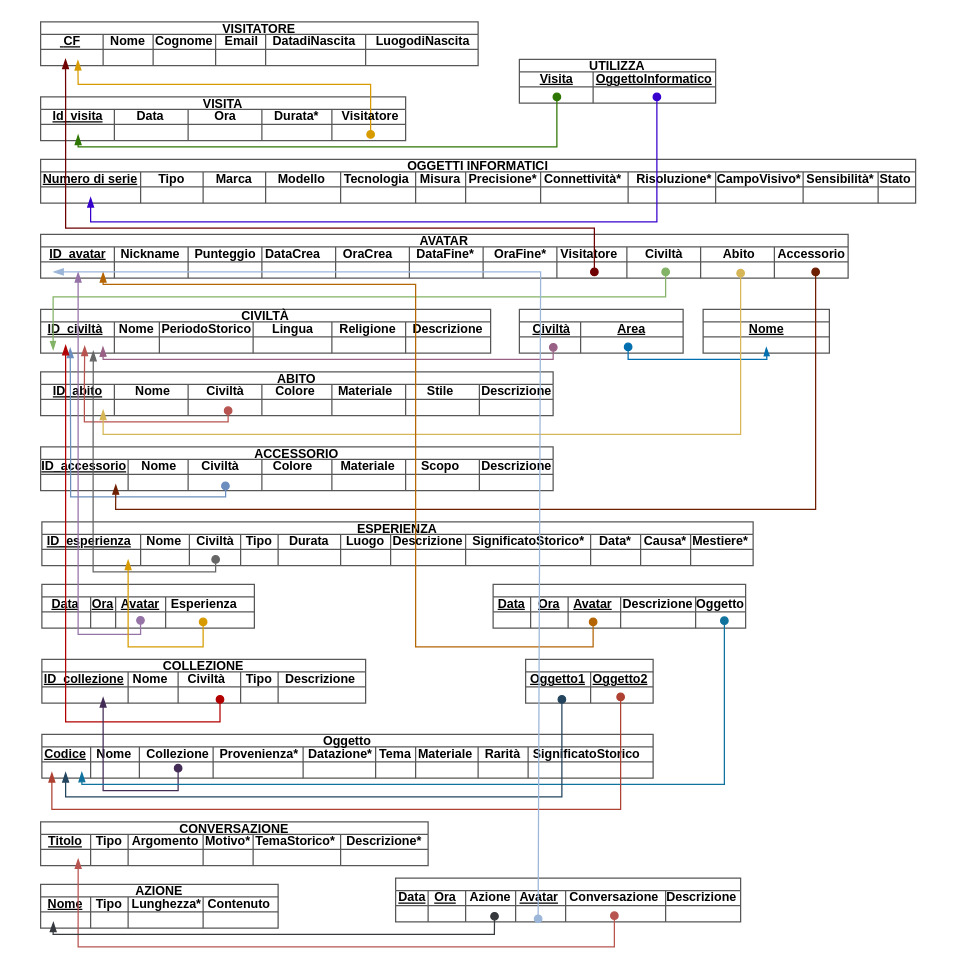
This 960x980 diagram has some shape labels left out. Each missing label, with the box of its shape:
AREAGEOGRAFICA: (702, 308, 829, 353)
CORRELAZIONE: (524, 658, 653, 703)
INTERAZIONE: (492, 583, 746, 628)
INTERAZIONEAVATAR: (394, 877, 741, 922)
LOCALIZZAZIONE: (518, 308, 683, 353)
PARTECIPAZIONE: (41, 583, 254, 628)
